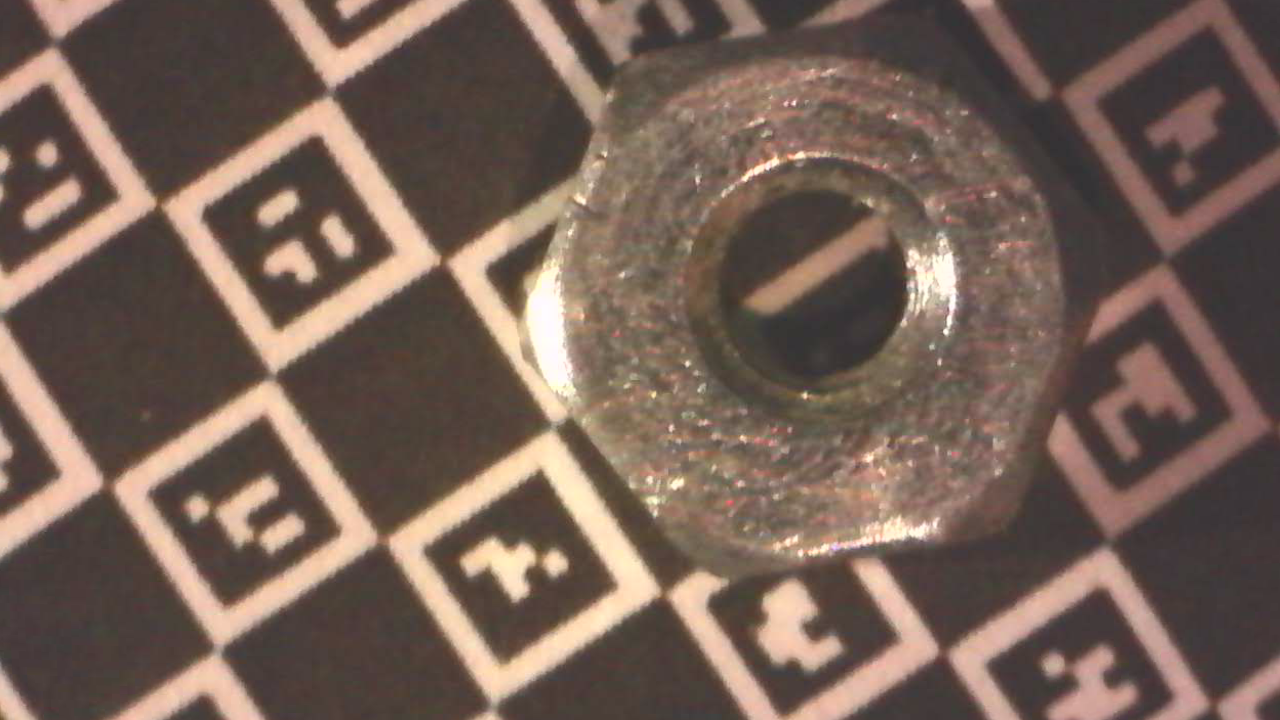Bolt: (515, 11, 1111, 583)
